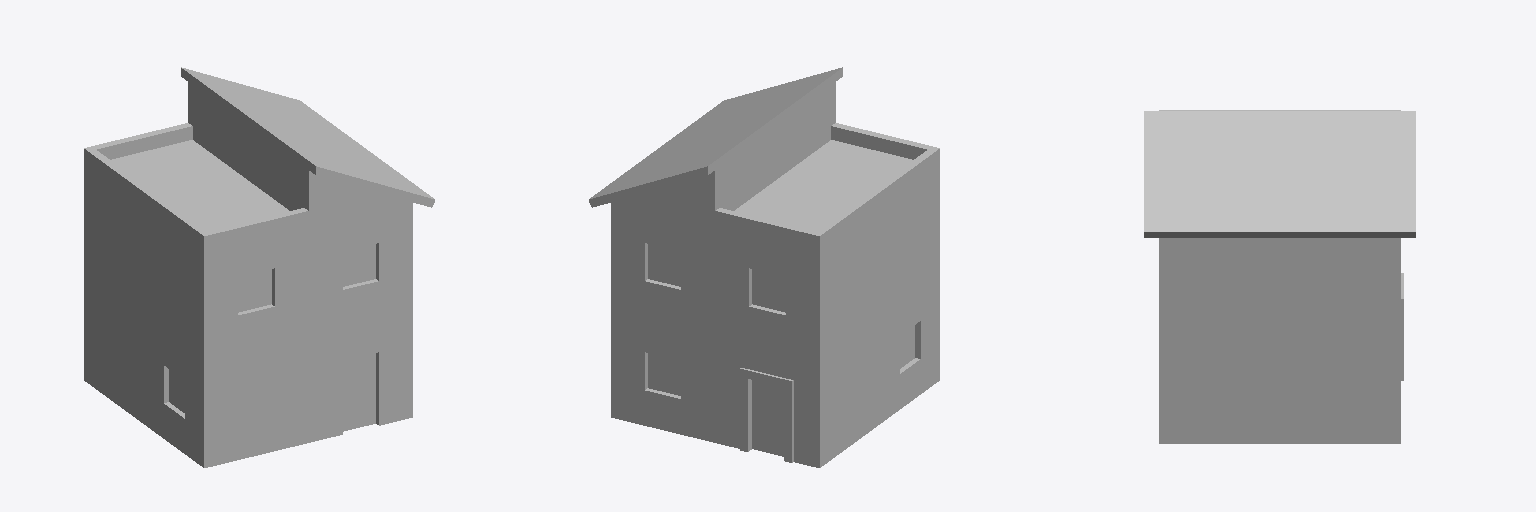
File: house_type21.obj
The picture shows the model from 3 angles: view 1: azimuth 30°, elevation 25°; view 2: azimuth 150°, elevation 25°; view 3: azimuth 270°, elevation 25°; orthographic projection.
Visible parts, largest first — view 1: house_type21; view 2: house_type21; view 3: house_type21.
Part boxes in pixels (left/top/right/bottom): house_type21: left=84, top=67, right=434, bottom=467; house_type21: left=589, top=67, right=939, bottom=467; house_type21: left=1144, top=110, right=1415, bottom=443.
Bounding box in the file's own units: 0.8581 × 1.03 × 0.9.